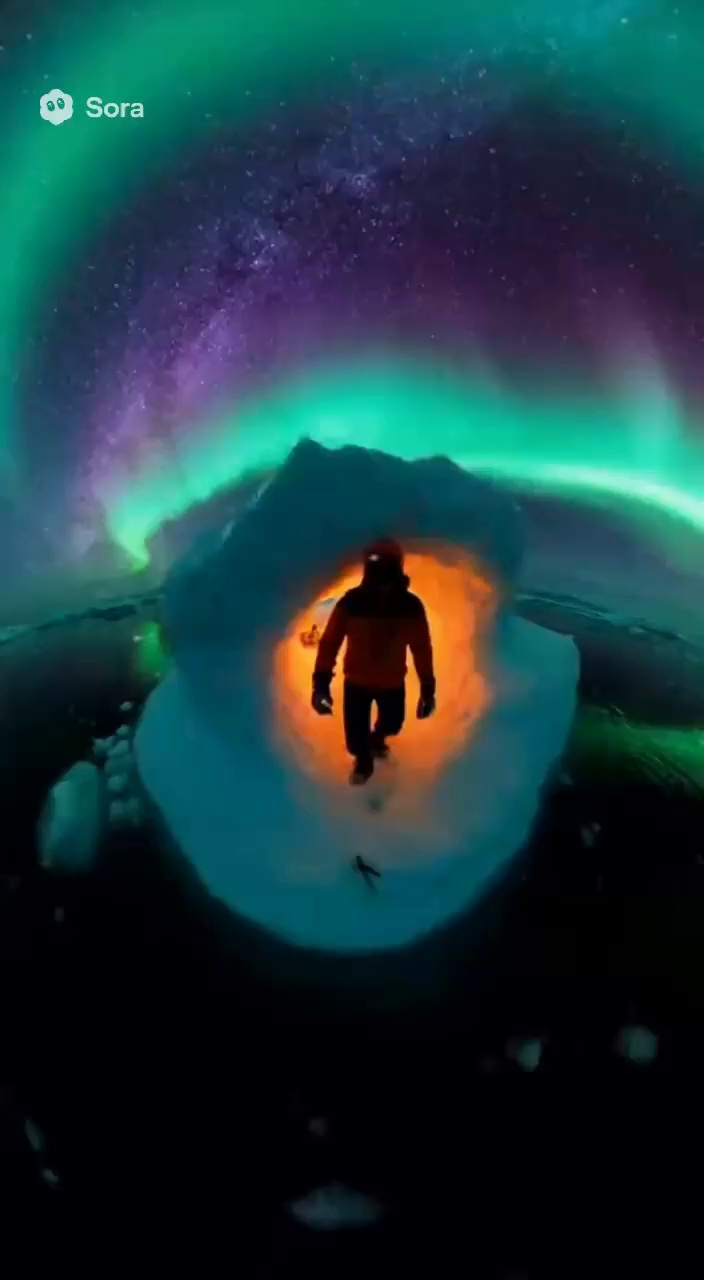watermark: (36, 86, 150, 128)
